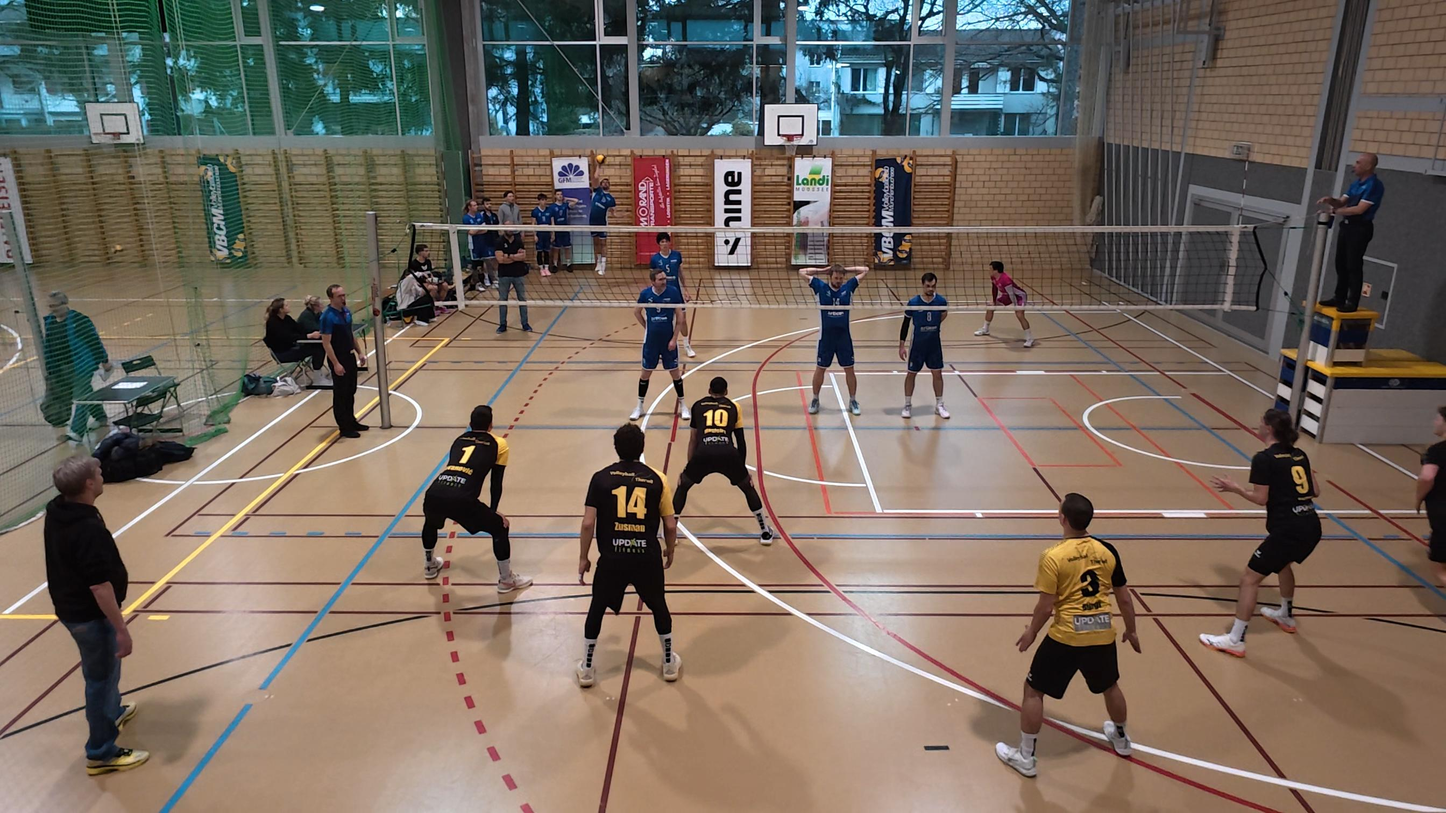battuta: (577, 152, 617, 290)
